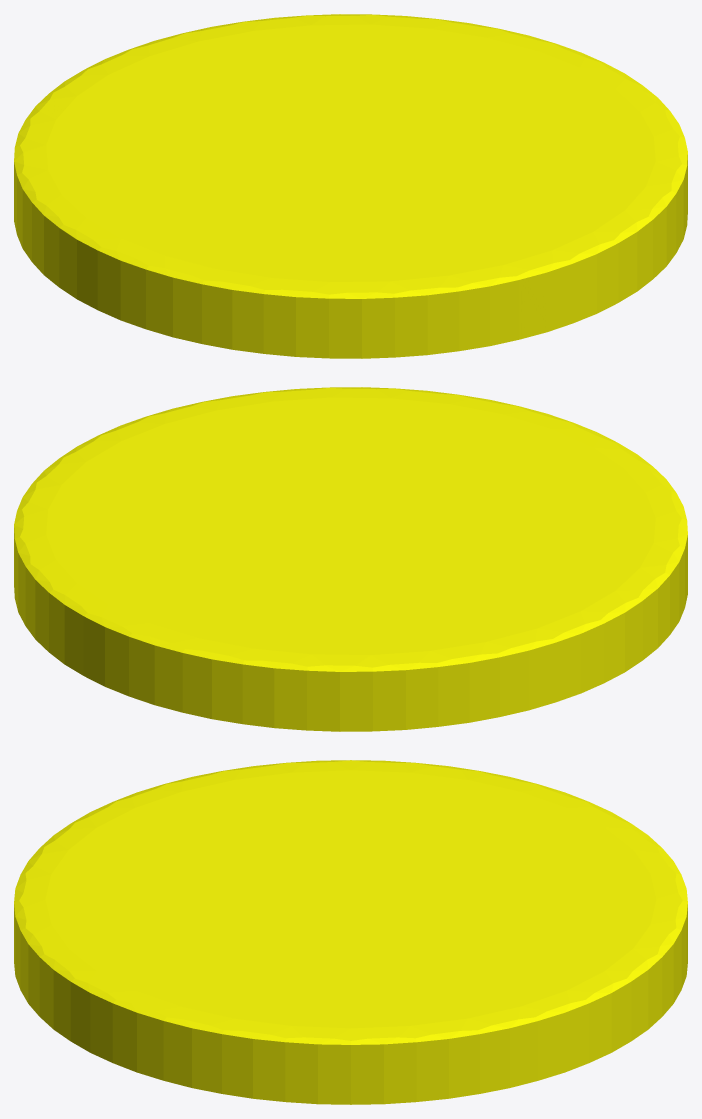
Rendered from Peng.fbx.
3 views of the same model, one above another, from view 1: azimuth 30°, elevation 25°; view 2: azimuth 150°, elevation 25°; view 3: azimuth 270°, elevation 25° (orthographic).
Parts seen in each view (by area): view 1: Cylinder; view 2: Cylinder; view 3: Cylinder.
Part boxes in pixels (<box>): Cylinder: <box>14,14,687,358</box>; Cylinder: <box>14,387,687,731</box>; Cylinder: <box>14,760,687,1104</box>.
Bounding box in the file's own units: 199 × 21.6 × 199.
